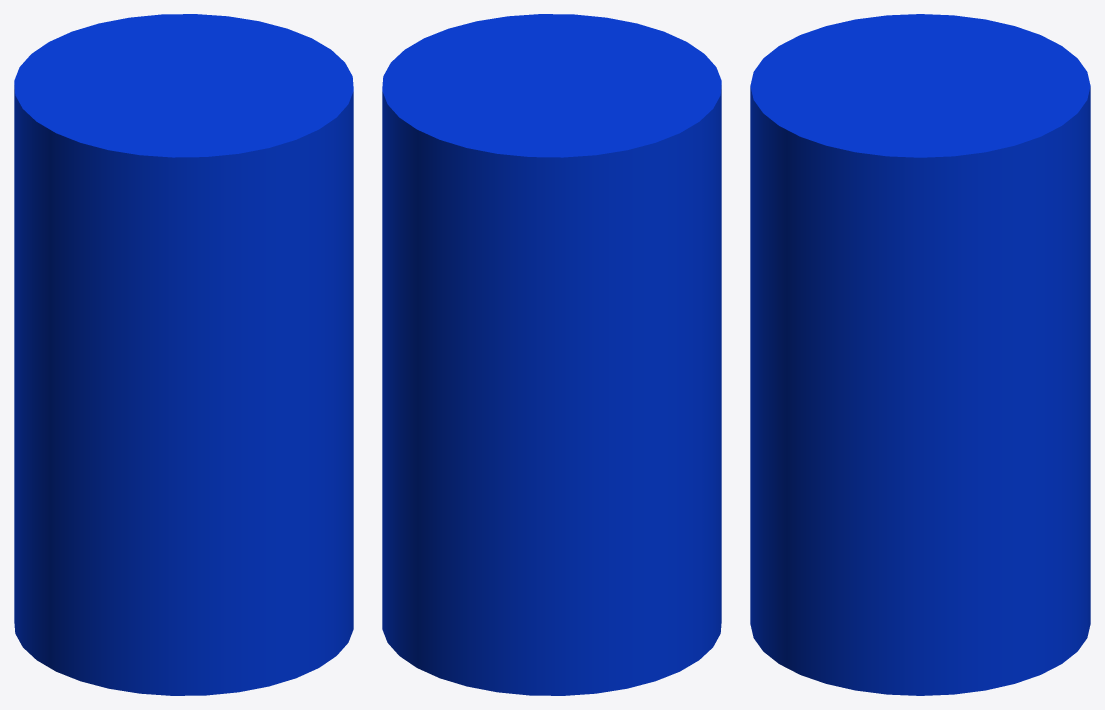
File: 2_cilindro.gltf
3 renders of one model, left to right at view 1: azimuth 30°, elevation 25°; view 2: azimuth 150°, elevation 25°; view 3: azimuth 270°, elevation 25°, orthographic.
Parts seen in each view (by area): view 1: 2_cilindro; view 2: 2_cilindro; view 3: 2_cilindro.
Boxes of the visible parts, x1,y1,x2,y2 form: 2_cilindro: [14, 14, 353, 695]; 2_cilindro: [382, 14, 721, 695]; 2_cilindro: [750, 14, 1090, 695].
Bounding box in the file's own units: 0.1222 × 0.2133 × 0.1222.
